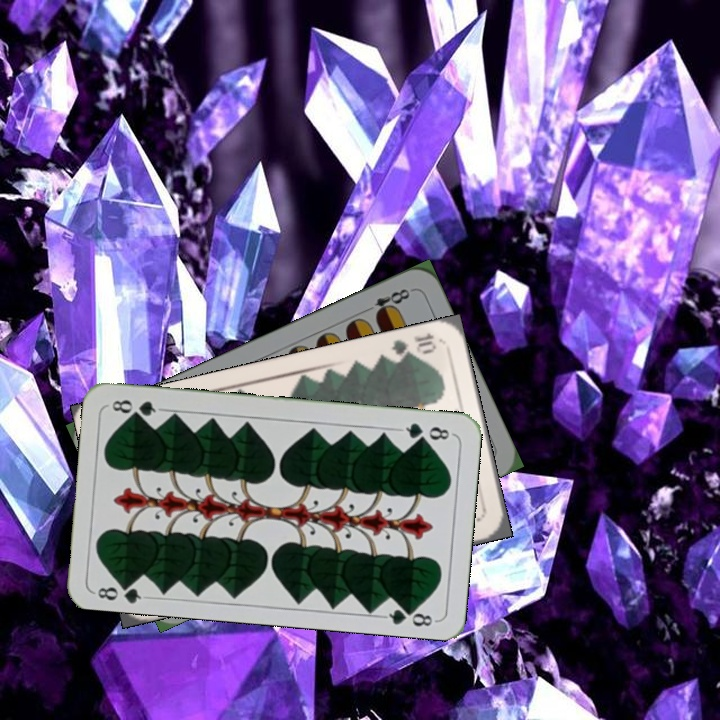E8: (359, 284, 413, 320)
G10: (387, 329, 439, 363)
G8: (91, 576, 150, 605), (396, 419, 455, 444)
